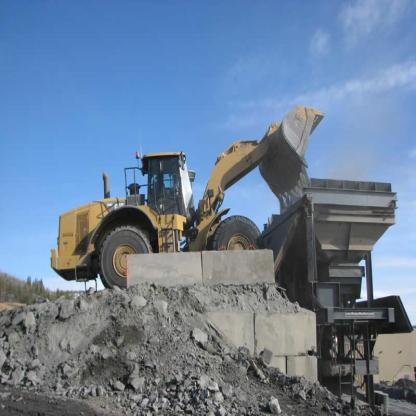bull_dozer/loader/grader: (55, 108, 318, 284)
